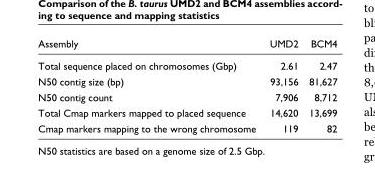table: (37, 37, 336, 133)
table column: (37, 37, 262, 133), (262, 37, 302, 133), (302, 37, 336, 133)
table column header: (37, 37, 336, 54)
table row: (37, 54, 336, 73), (37, 37, 336, 54), (37, 88, 336, 104), (37, 104, 336, 120), (37, 73, 336, 88), (37, 120, 336, 133)
